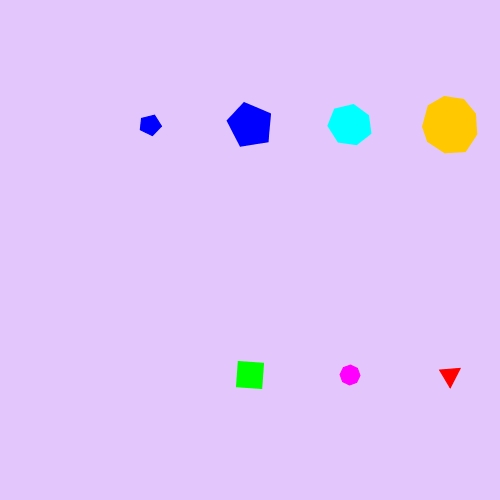heptagon: (325, 101, 376, 150)
nonagon: (417, 94, 483, 157)
octagon: (335, 360, 365, 390)
pentagon: (224, 99, 276, 151), (135, 110, 165, 140)
quadrilateral: (228, 353, 272, 397)
triangle: (436, 360, 464, 390)
